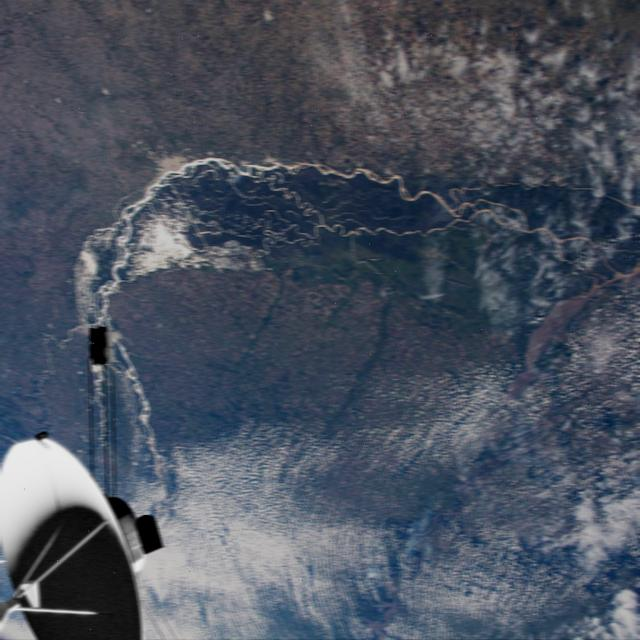satellite: (0, 310, 164, 640)
